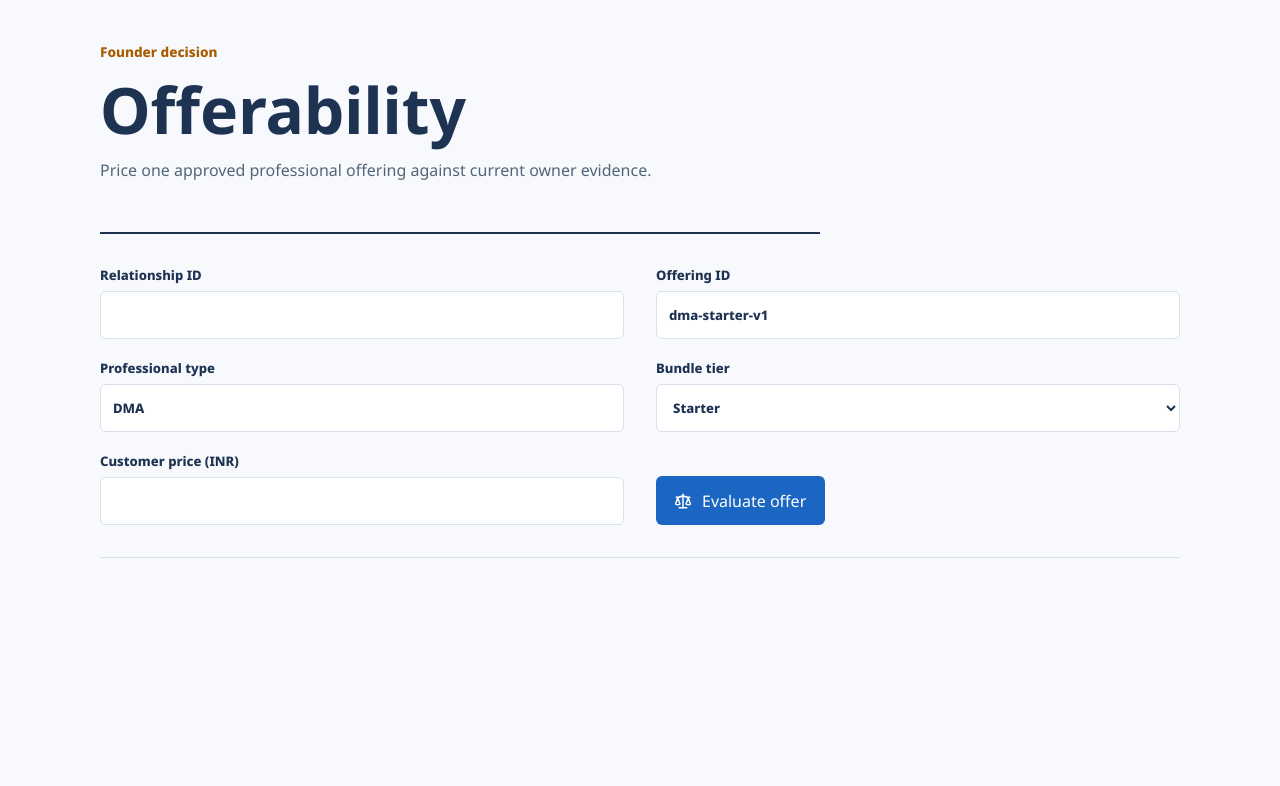
Test: submits price only and renders the evidence-backed decision
The image size is (1280, 786).
Type "3d0deade-9890-46d8-8dd3-530a23b54102" into the field labelled "Relationship ID".
click(362, 315); type("3d0deade-9890-46d8-8dd3-530a23b54102")  # box [100,291,624,339]
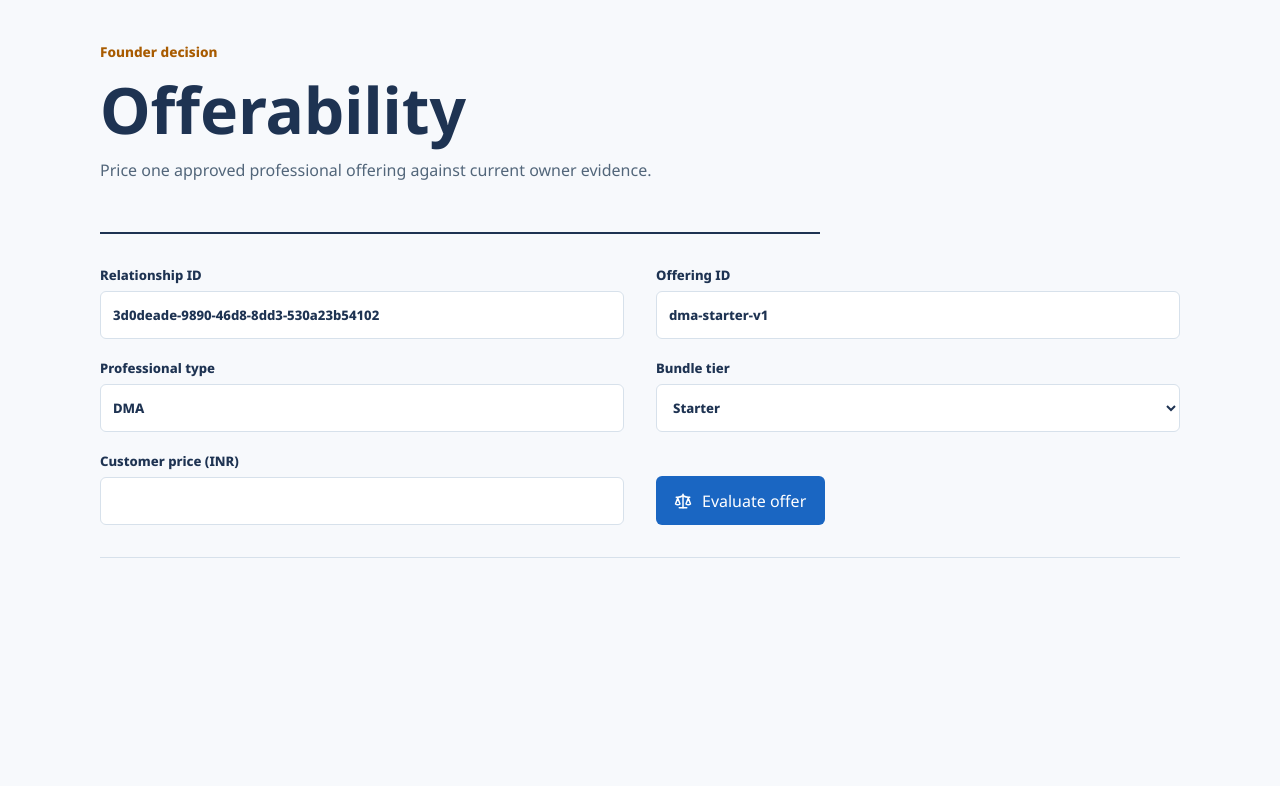
Type "70.00" into the number field labelled "Customer price (INR)".
click(362, 501); type("70.00")  # box [100,477,624,525]
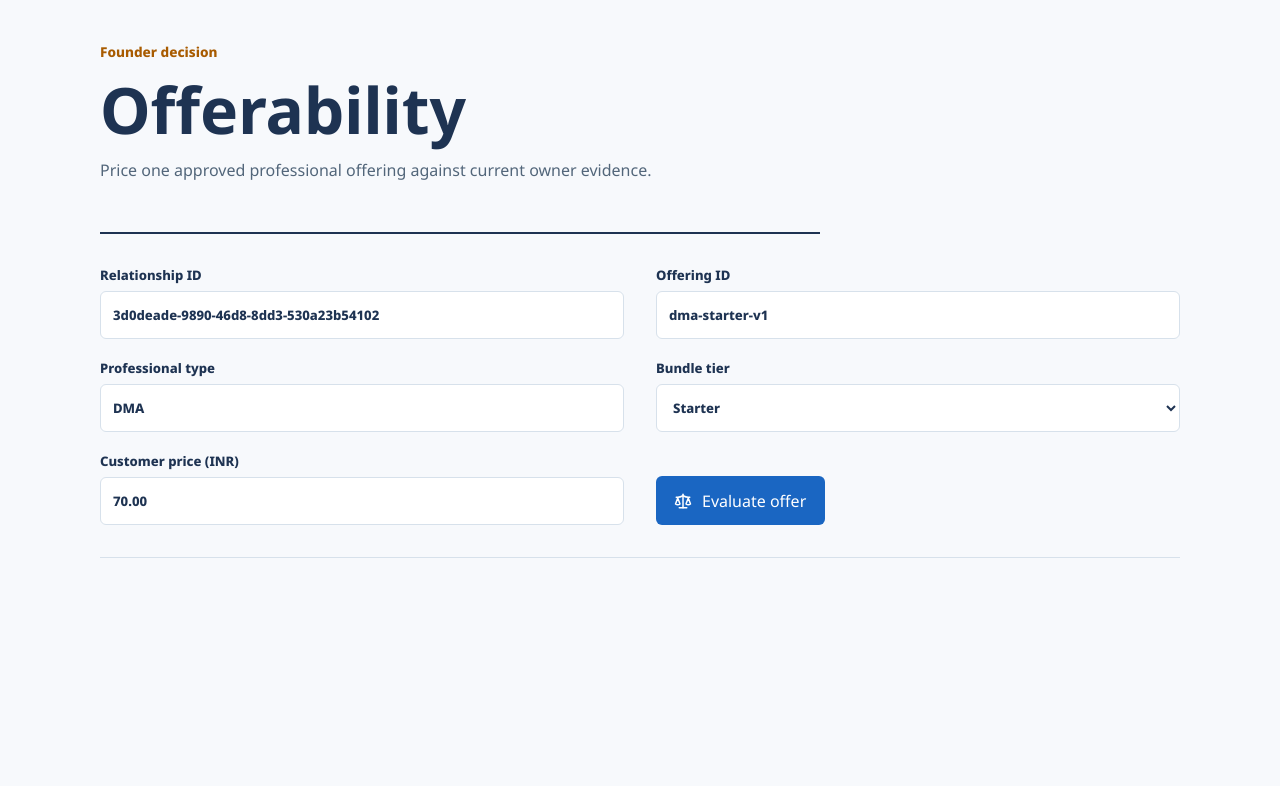
Click the button "Evaluate offer".
click(740, 501)  # box [656,476,825,525]
(page scrolled)
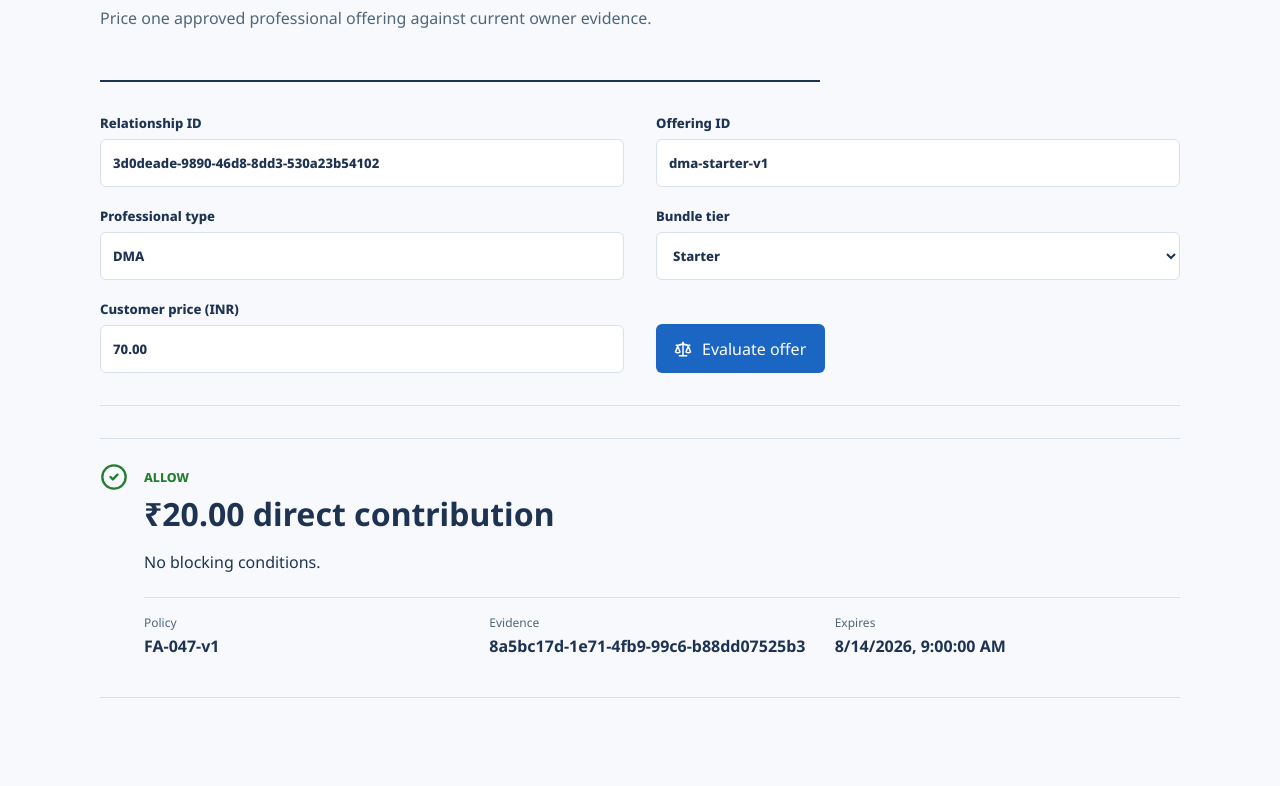
Now the text "ALLOW" is shown, box [144,469,189,486]
Now the heading "₹20.00 direct contribution" is shown, box [144,492,554,535]
Now the text "8a5bc17d-1e71-4fb9-99c6-b88dd07525b3" is shown, box [489,635,819,657]
